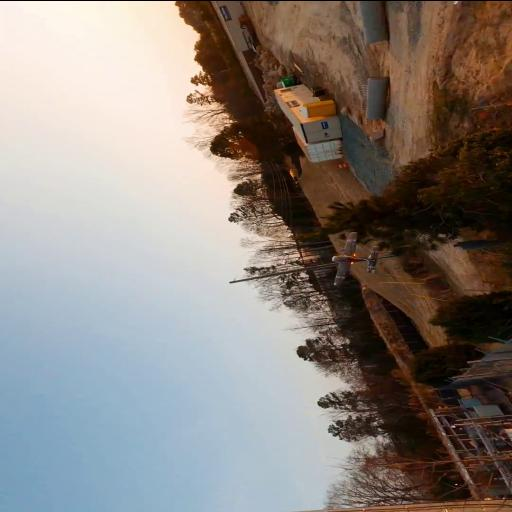uav: (328, 230, 384, 288)
